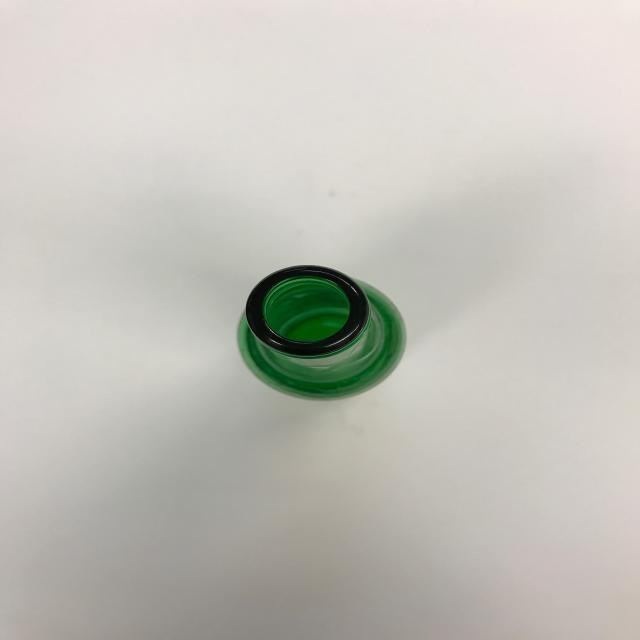glass: (237, 264, 411, 404)
